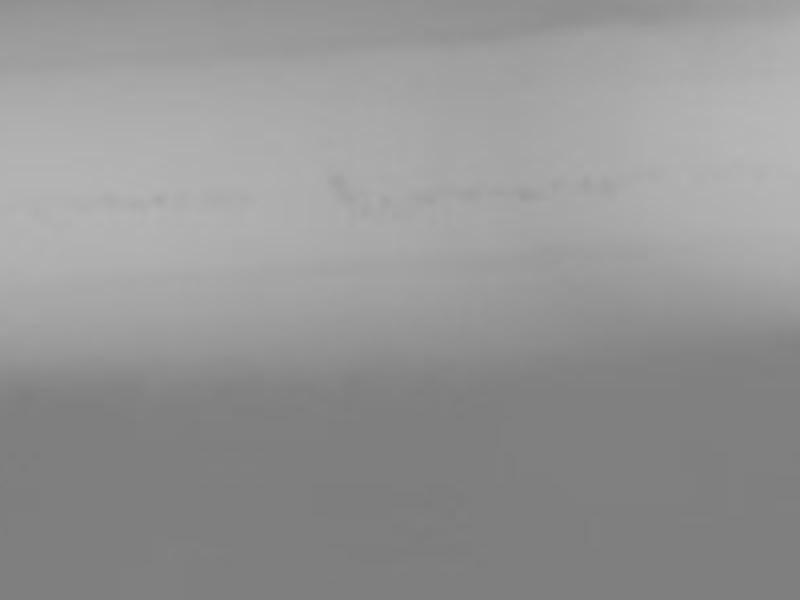defect: (325, 172, 349, 201), (106, 193, 144, 210), (510, 187, 546, 203), (597, 173, 616, 197), (409, 190, 433, 206), (575, 173, 590, 197), (358, 204, 374, 223), (547, 179, 561, 192), (380, 193, 392, 207), (153, 192, 165, 205)
